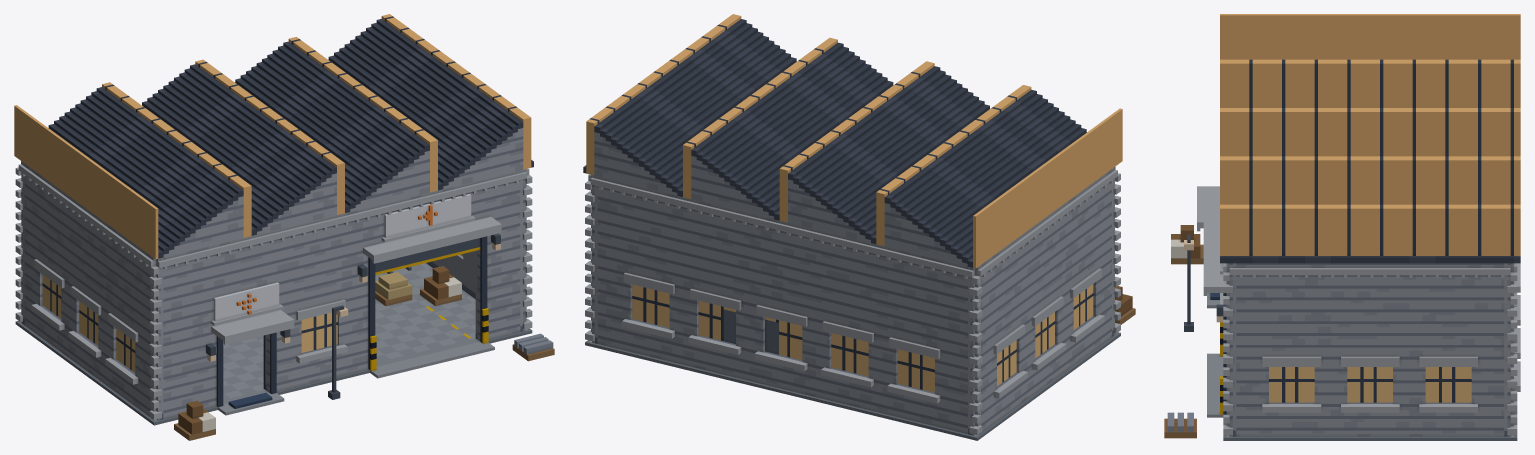
The model's file is factory_e2_l1.glb.
3 renders of one model, left to right at view 1: azimuth 30°, elevation 25°; view 2: azimuth 150°, elevation 25°; view 3: azimuth 270°, elevation 25°, orthographic. The views are drawn at different scales.
Visible parts, largest first — view 1: CutRoof, CutPZ, Base, CutNX, CutNZ; view 2: CutRoof, CutNZ, CutNX, Base, CutPZ; view 3: CutRoof, CutPX, Base, CutPZ, CutNZ.
Part boxes in pixels (bbox=[...]): CutRoof: bbox=[14, 14, 533, 259]; CutPZ: bbox=[149, 169, 532, 397]; Base: bbox=[15, 256, 554, 440]; CutNX: bbox=[18, 164, 153, 391]; CutNZ: bbox=[15, 161, 24, 299]; CutRoof: bbox=[583, 14, 1122, 268]; CutNZ: bbox=[585, 174, 982, 411]; CutNX: bbox=[978, 169, 1117, 405]; Base: bbox=[585, 286, 1135, 440]; CutPZ: bbox=[1112, 166, 1120, 310]; CutRoof: bbox=[1220, 14, 1520, 263]; CutPX: bbox=[1229, 263, 1510, 412]; Base: bbox=[1164, 225, 1517, 440]; CutPZ: bbox=[1197, 186, 1236, 411]; CutNZ: bbox=[1504, 263, 1520, 411].
Bounding box in the file's own units: 14.4 × 7.8 × 10.9.
